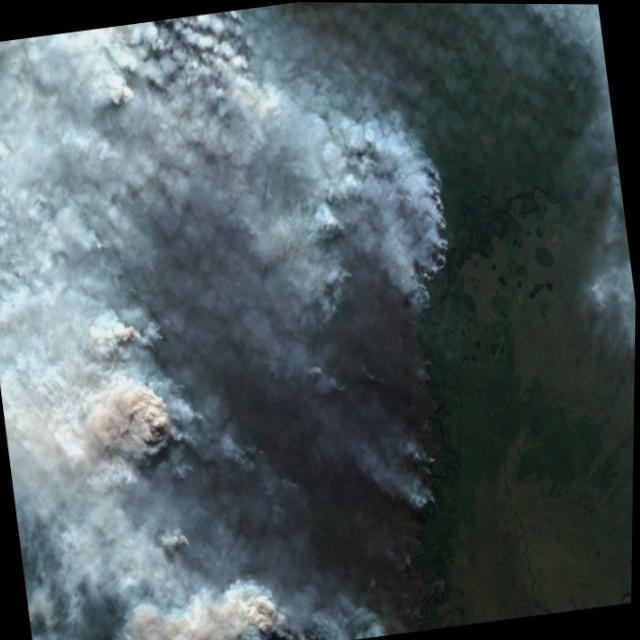fire: (280, 179, 378, 419), (385, 148, 480, 386), (400, 435, 452, 535), (263, 598, 337, 640), (175, 394, 211, 461)
